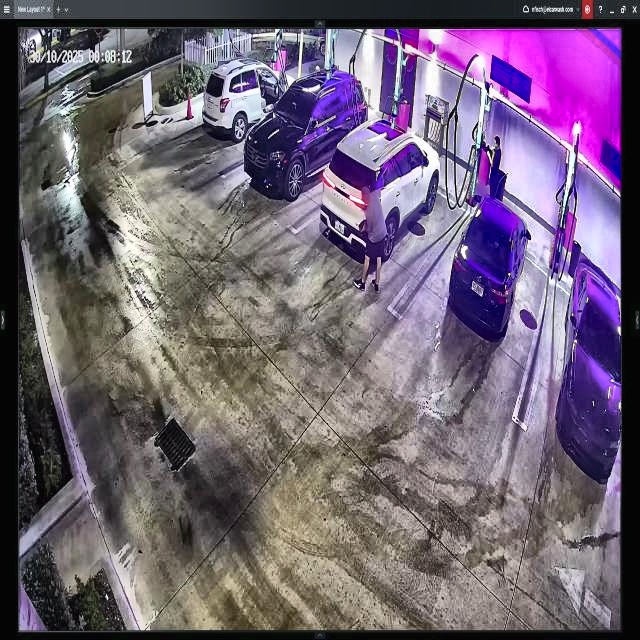Car: (323, 119, 443, 260), (245, 74, 368, 194), (448, 193, 530, 334), (203, 58, 295, 142)
